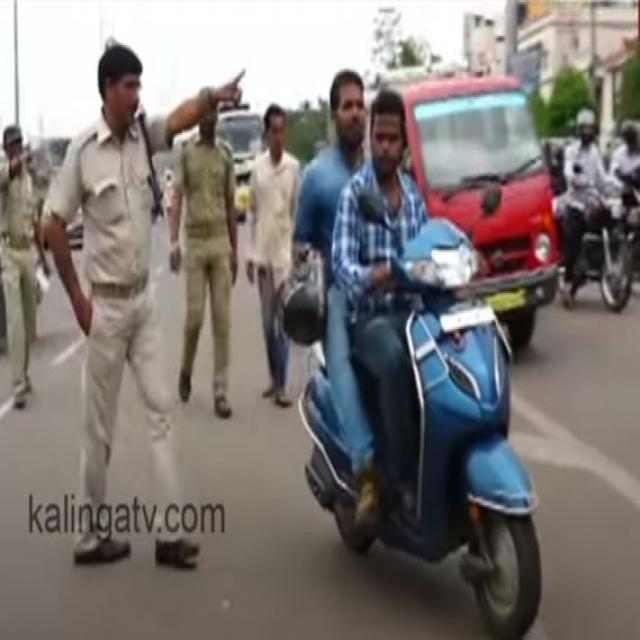Not Wearing Helmet: (366, 97, 422, 182)
